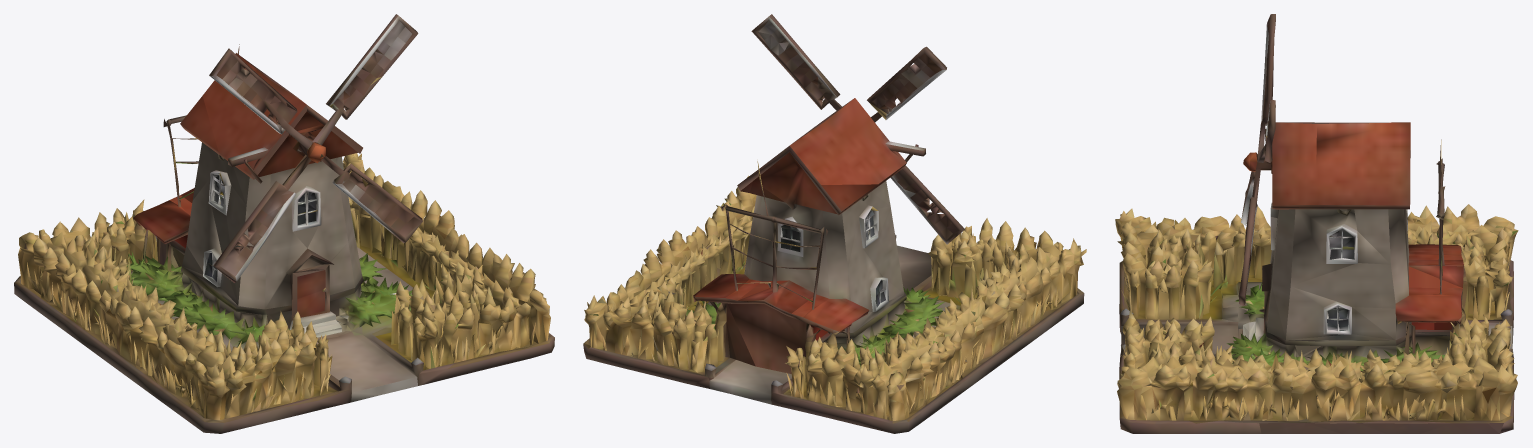
File: mill.glb
The picture shows the model from 3 angles, left to right: view 1: azimuth 30°, elevation 25°; view 2: azimuth 150°, elevation 25°; view 3: azimuth 270°, elevation 25°; orthographic projection. The views are drawn at different scales.
Parts seen in each view (by area): view 1: tripo_node_097b9139; view 2: tripo_node_097b9139; view 3: tripo_node_097b9139.
Part boxes in pixels (x1,y1,x2,y2): tripo_node_097b9139: (14, 14, 554, 433); tripo_node_097b9139: (583, 14, 1086, 433); tripo_node_097b9139: (1115, 14, 1518, 433).
Bounding box in the file's own units: 1.19 × 1 × 1.21.
1 material, 1 textured.
